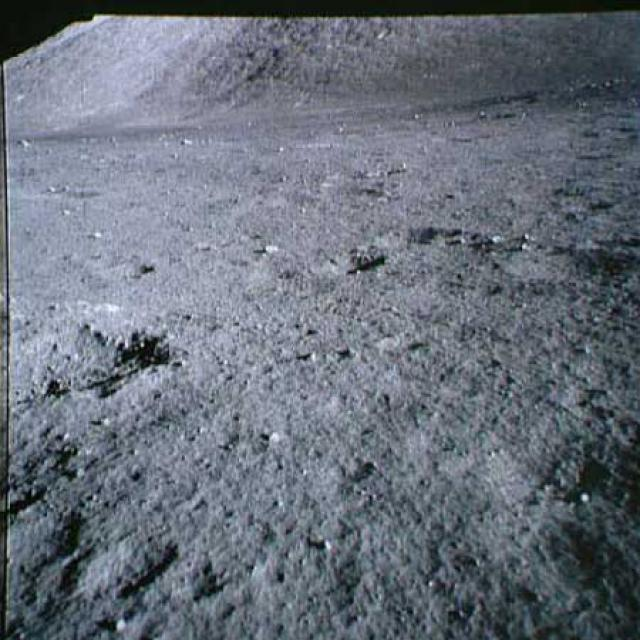crater: (23, 317, 175, 398)
